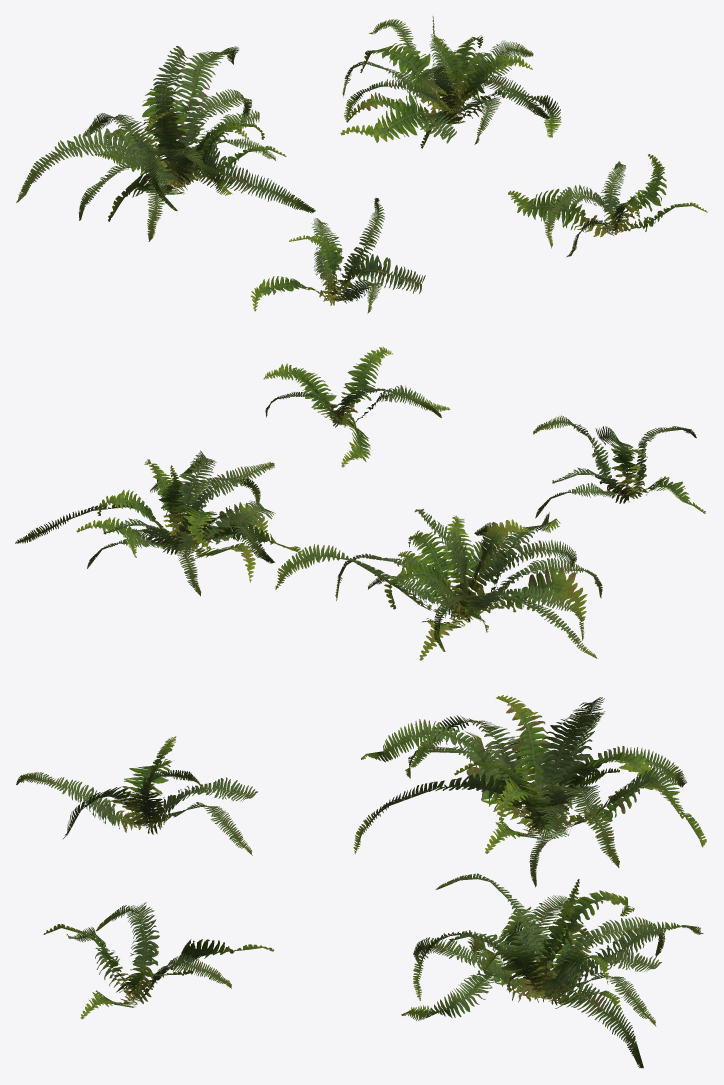
Rendered from fern_02.glb.
3 views of the same model, one above another, from view 1: azimuth 30°, elevation 25°; view 2: azimuth 150°, elevation 25°; view 3: azimuth 270°, elevation 25° (orthographic). The views are drawn at different scales.
Visible parts, largest first — view 1: fern_02_b, fern_02_c, fern_02_a, fern_02_d; view 2: fern_02_b, fern_02_c, fern_02_d, fern_02_a; view 3: fern_02_b, fern_02_c, fern_02_a, fern_02_d.
Boxes of the visible parts, x1,y1,x2,y2 form: fern_02_b: [16, 46, 315, 241]; fern_02_c: [340, 16, 561, 148]; fern_02_a: [250, 198, 425, 313]; fern_02_d: [508, 154, 707, 256]; fern_02_b: [275, 509, 602, 660]; fern_02_c: [15, 450, 303, 596]; fern_02_d: [263, 346, 450, 467]; fern_02_a: [533, 415, 705, 518]; fern_02_b: [353, 695, 706, 887]; fern_02_c: [401, 873, 703, 1068]; fern_02_a: [16, 736, 257, 855]; fern_02_d: [43, 902, 273, 1019].
Size of the model in its own units: 1.97 by 0.4277 by 1.72.
1 material, 1 textured.
